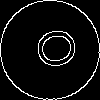O: (25, 25, 79, 74)
